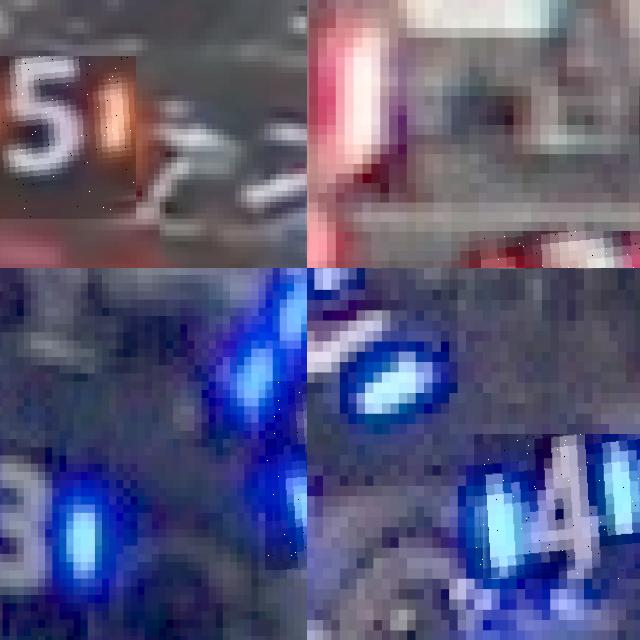B3: (0, 434, 109, 615), (265, 381, 307, 570)
B4: (474, 434, 640, 578)
R5: (0, 56, 136, 219)
